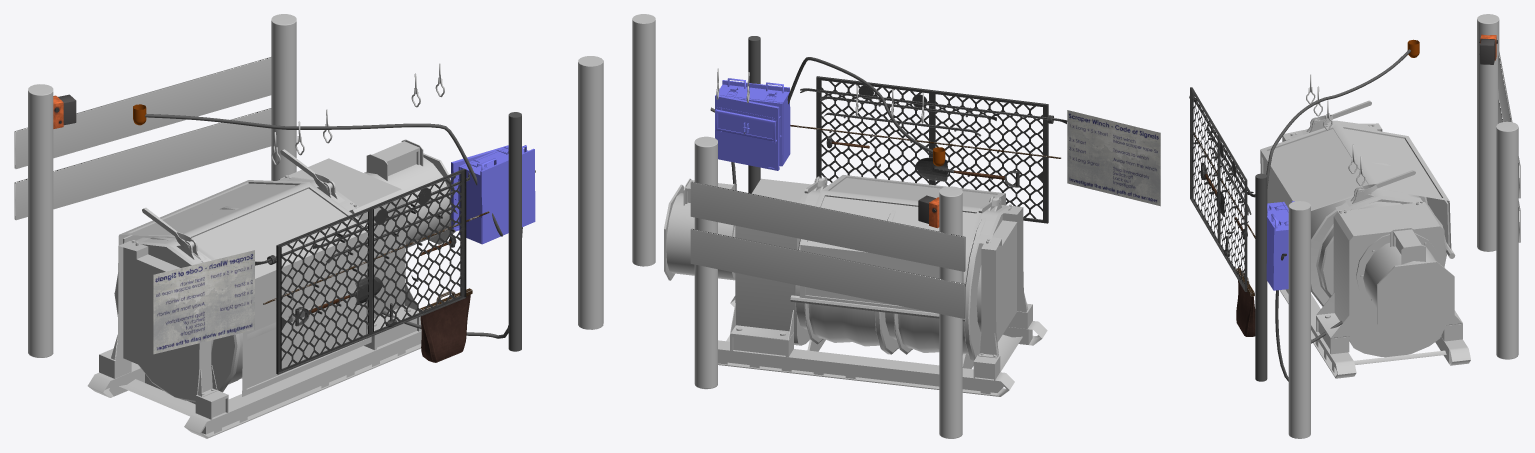
File: Bottom Gulley Winch.fbx
3 renders of one model, left to right at view 1: azimuth 30°, elevation 25°; view 2: azimuth 150°, elevation 25°; view 3: azimuth 270°, elevation 25°, orthographic. The views are drawn at different scales.
Parts seen in each view (by area): view 1: Winch_001, Wood_barricades_015, Winch_006, Tool_rack_001__2_, Code_of_signals, Cylinder_004, Cylinder_011, Power_box_not_locked__Hazard_, Power_Box, BezierCurve_018, Signaling_Device_053; view 2: Winch_001, Wood_barricades_015, Tool_rack_001__2_, Winch_006, Code_of_signals, Cylinder_004, Power_box_not_locked__Hazard_, Power_Box, Cylinder_011, BezierCurve_018, Signaling_Device_053; view 3: Winch_001, Winch_006, Wood_barricades_015, Tool_rack_001__2_, Cylinder_004, Cylinder_011, Power_box_not_locked__Hazard_, Power_Box, BezierCurve_018, Signaling_Device_053, BezierCurve_003.
Part boxes in pixels (x1,y1,x2,y2): Winch_001: [87, 139, 455, 438]; Wood_barricades_015: [14, 14, 296, 357]; Winch_006: [118, 180, 371, 396]; Tool_rack_001__2_: [255, 168, 489, 374]; Code_of_signals: [153, 250, 254, 354]; Cylinder_004: [578, 56, 603, 329]; Cylinder_011: [508, 112, 521, 351]; Power_box_not_locked__Hazard_: [451, 145, 535, 244]; Power_Box: [458, 145, 535, 244]; BezierCurve_018: [145, 113, 502, 236]; Signaling_Device_053: [53, 94, 76, 128]; Winch_001: [664, 176, 1047, 396]; Wood_barricades_015: [690, 136, 965, 438]; Tool_rack_001__2_: [790, 76, 1067, 223]; Winch_006: [799, 175, 1005, 312]; Code_of_signals: [1067, 110, 1160, 206]; Cylinder_004: [632, 14, 655, 266]; Power_box_not_locked__Hazard_: [715, 79, 789, 170]; Power_Box: [715, 78, 790, 166]; Cylinder_011: [748, 36, 760, 193]; BezierCurve_018: [787, 57, 932, 153]; Signaling_Device_053: [918, 195, 939, 228]; Winch_001: [1279, 100, 1470, 378]; Winch_006: [1260, 124, 1451, 289]; Wood_barricades_015: [1477, 14, 1520, 359]; Tool_rack_001__2_: [1189, 87, 1255, 336]; Cylinder_004: [1288, 201, 1310, 438]; Cylinder_011: [1255, 173, 1267, 381]; Power_box_not_locked__Hazard_: [1266, 201, 1294, 290]; Power_Box: [1267, 202, 1288, 290]; BezierCurve_018: [1266, 49, 1410, 188]; Signaling_Device_053: [1479, 34, 1497, 64]; BezierCurve_003: [1275, 253, 1342, 381].
Bounding box in the file's own units: 358 × 177 × 232.
